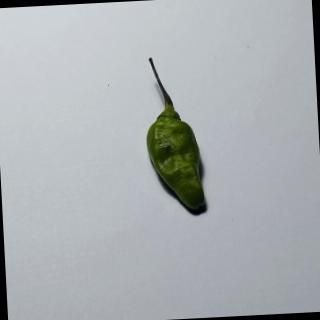Cabai Hijau: (135, 53, 213, 220)
